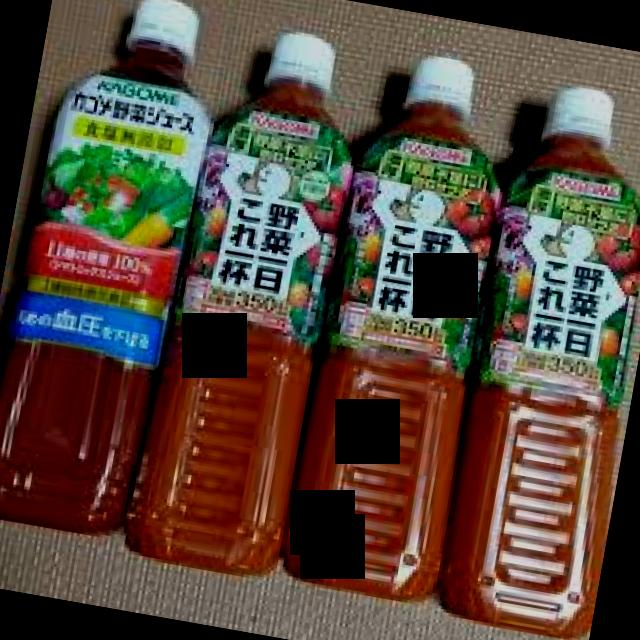juice: (123, 29, 355, 582), (279, 53, 505, 607), (0, 0, 215, 540), (434, 84, 640, 640)
